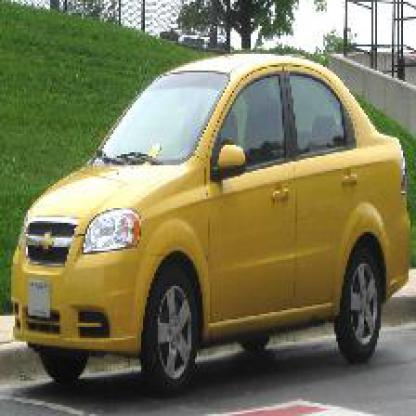not_emergency: (17, 59, 414, 394)
